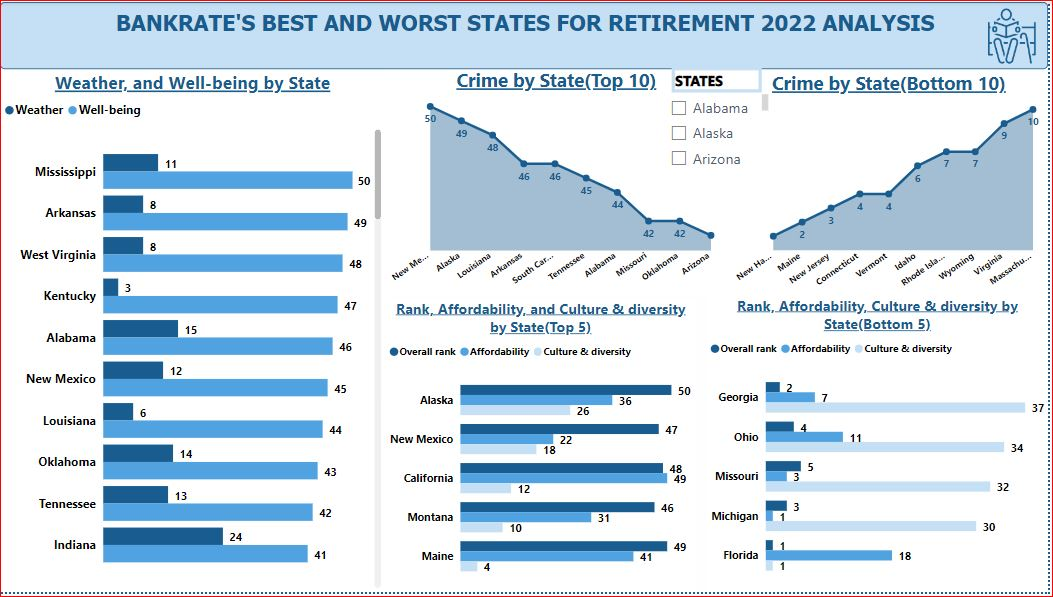

What the dashboard file says about the page in this screenshot:
{"tool":"powerbi","page":{"name":"Page 1","canvas":[1280,720],"ordinal":0},"visuals":[{"type":"stackedAreaChart","title":"Crime by State(Top 10)","fields":{"Category":["Sheet 1.State"],"Y":["Sum(Sheet 1.Crime)"]},"box":[553.3,82.7,364,277.3],"z":0},{"type":"stackedAreaChart","title":"Crime by State(Bottom 10)","fields":{"Category":["Sheet 1.State"],"Y":["Sum(Sheet 1.Crime)"]},"box":[917.3,82.7,362.7,274.7],"z":1000},{"type":"clusteredBarChart","title":"Rank, Affordability, and Culture & diversity by State(Top 10)","fields":{"Category":["Sheet 1.State"],"Y":["Sum(Sheet 1.Overall rank)","Sum(Sheet 1.Affordability)","Sum(Sheet 1.Culture & diversity)"]},"box":[553.3,360,310.7,360],"z":2000},{"type":"clusteredBarChart","title":"Rank, Affordability, Culture & diversity by State(Bottom 10)","fields":{"Y":["Sum(Sheet 1.Overall rank)","Sum(Sheet 1.Affordability)","Sum(Sheet 1.Culture & diversity)"],"Category":["Sheet 1.State"]},"box":[1014.7,357.3,265.3,362.7],"z":3000},{"type":"textbox","box":[0,0,1279.5,82.1],"z":4000},{"type":"clusteredBarChart","title":"Weather, and Well-being by State","fields":{"Category":["Sheet 1.State"],"Y":["Sum(Sheet 1.Weather)","Sum(Sheet 1.Well-being)"]},"box":[0,82.7,553.3,637.3],"z":5000},{"type":"slicer","fields":{"Values":["Sheet 1.State"]},"box":[864,357.3,150.7,362.7],"z":6000},{"type":"image","box":[1188,0,92,82.7],"z":7000}]}

Visuals, with their boxes in screenshot pixels (x1, y1, x2, y2), scaled from the page's 1280x720 canvas onto the 1053x597 screenshot:
"Crime by State(Top 10)" stackedAreaChart: (455,69,755,298)
"Crime by State(Bottom 10)" stackedAreaChart: (755,69,1052,296)
"Rank, Affordability, and Culture & diversity by State(Top 10)" clusteredBarChart: (455,298,711,596)
"Rank, Affordability, Culture & diversity by State(Bottom 10)" clusteredBarChart: (835,296,1052,596)
textbox: (0,0,1052,68)
"Weather, and Well-being by State" clusteredBarChart: (0,69,455,596)
slicer - Sheet 1.State: (711,296,835,596)
image: (977,0,1052,69)
